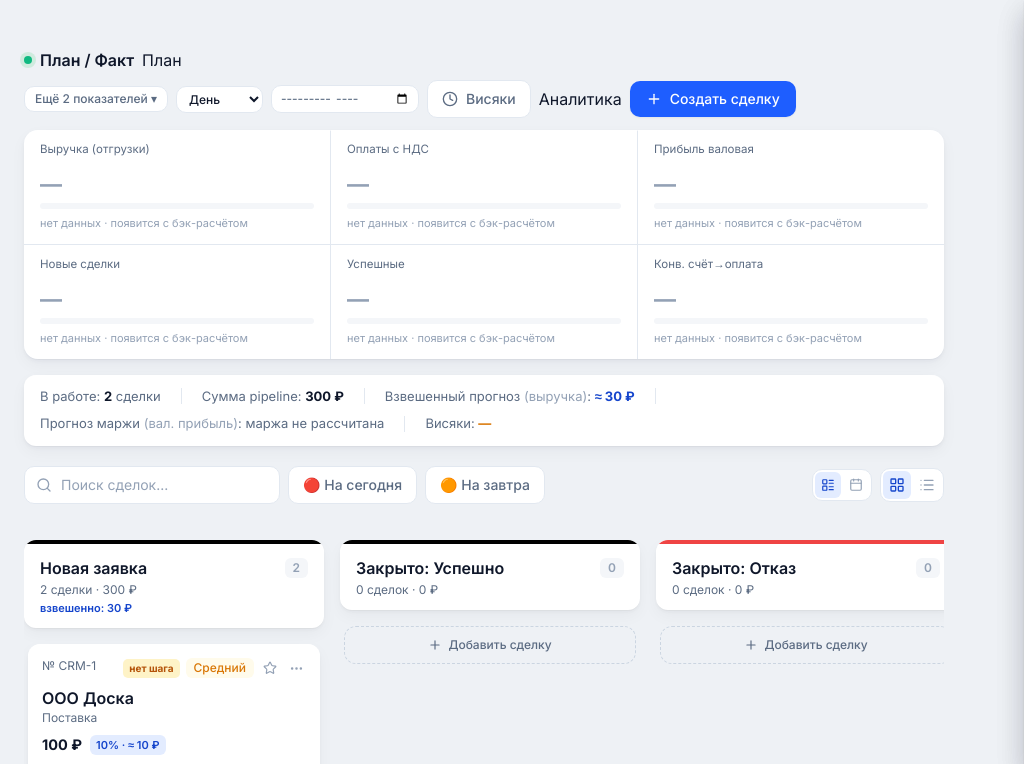
Test: DealsWorkspace (канбан) › переключение в режим списка показывает таблицу сделок
Click the button titled "Список". click: (927,485)
box: x1=913 y1=471 x2=941 y2=499
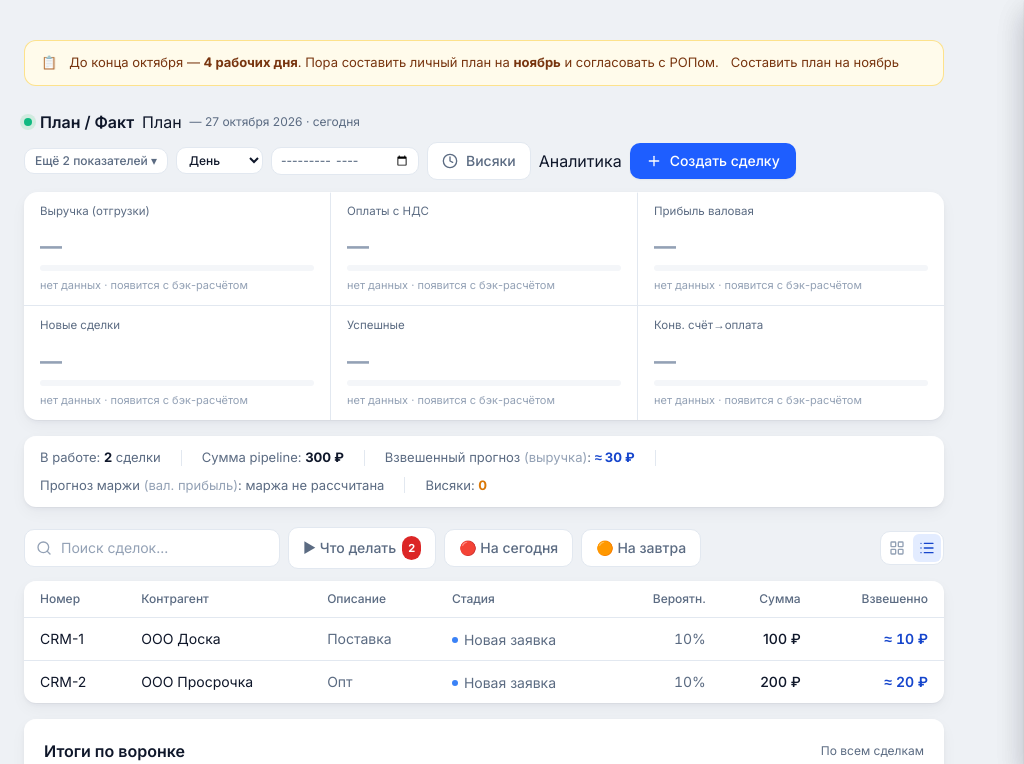
Expected: the link "CRM-1" is shown, x1=40 y1=630 x2=84 y2=647
Result: the table is shown at x1=24 y1=581 x2=944 y2=703
